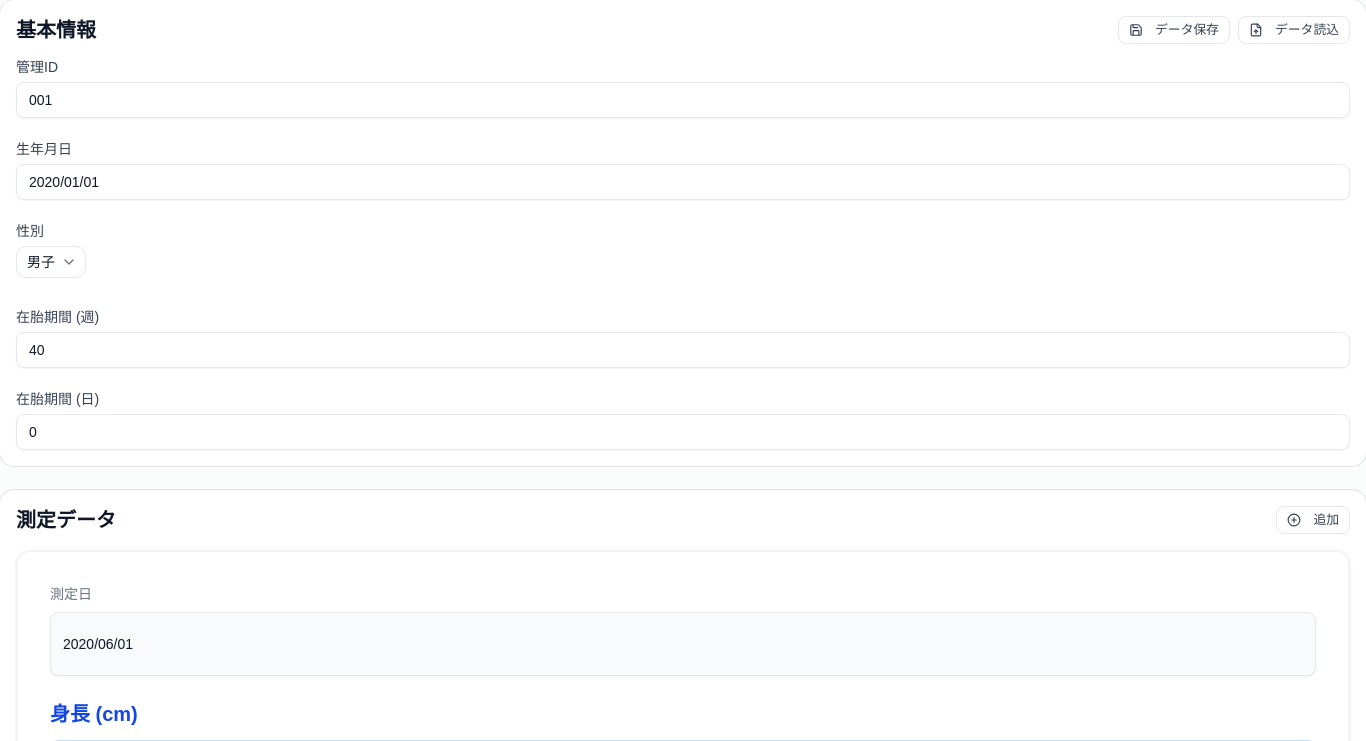
GrowthForm JSON import: measurement ids › gives an added row an id that differs from the current rows
Step 1. Click the button "追加" → (1313, 520), box [1276,506,1350,534]
(page scrolled)
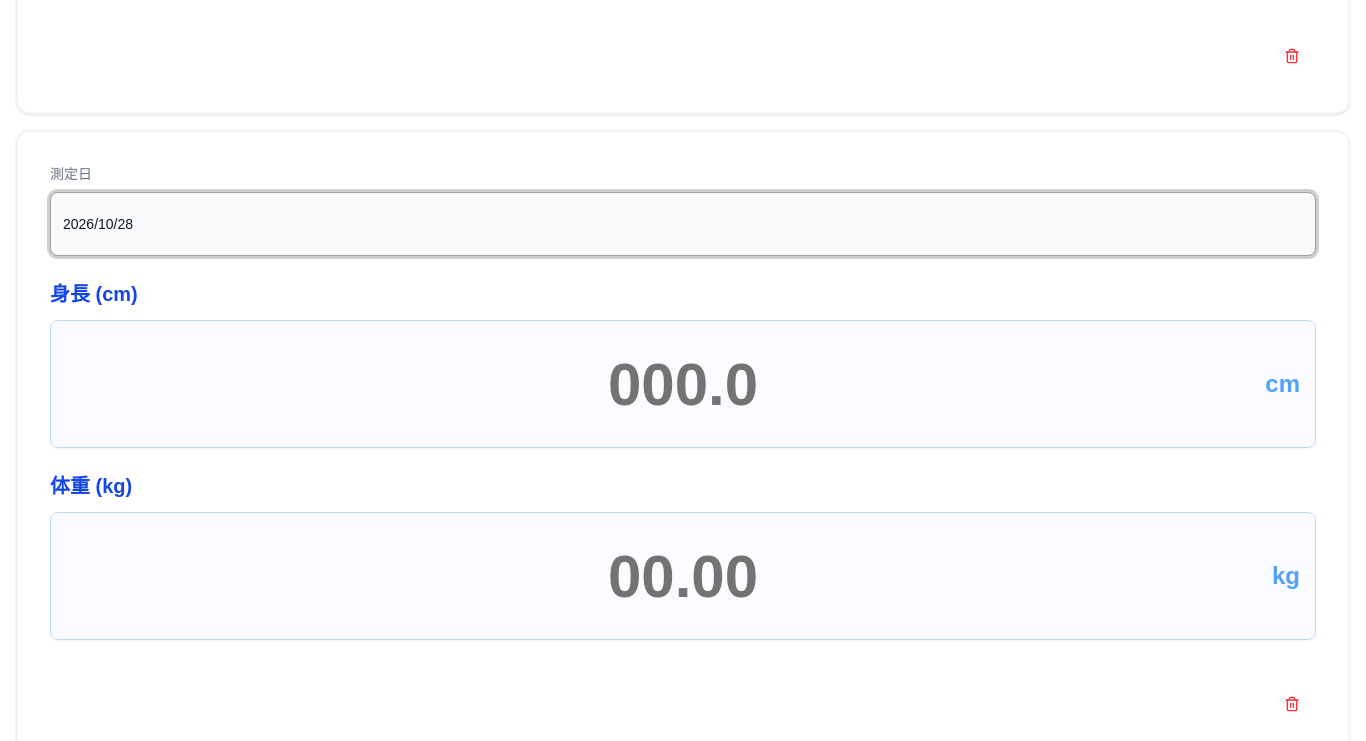
Now the field labelled "身長 (cm)" is shown, box [50,320,1316,448]
